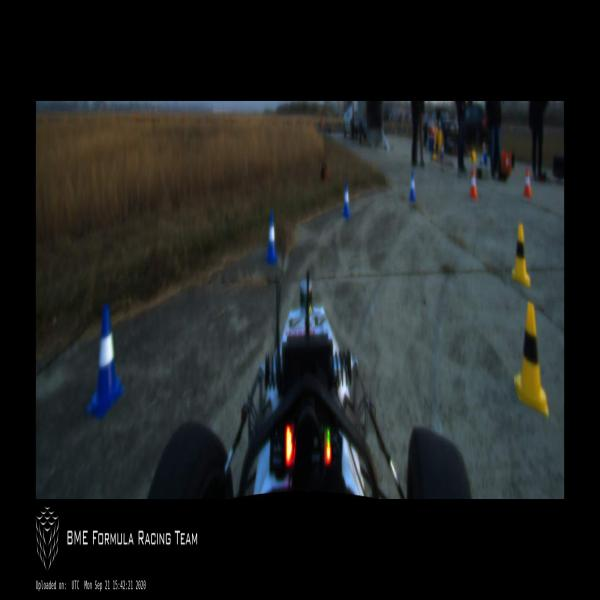blue_cone: (86, 305, 125, 418), (266, 213, 277, 260), (341, 181, 351, 217), (408, 171, 416, 200)
orange_cone: (470, 169, 478, 198), (524, 169, 532, 197)
yellow_cone: (514, 303, 548, 416), (512, 224, 530, 286), (432, 144, 437, 160)
